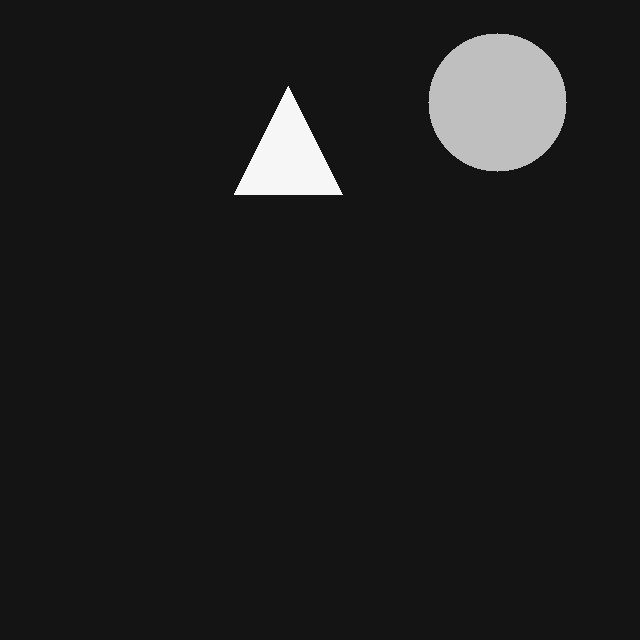circle: (428, 33, 566, 171)
triangle: (234, 86, 342, 194)
